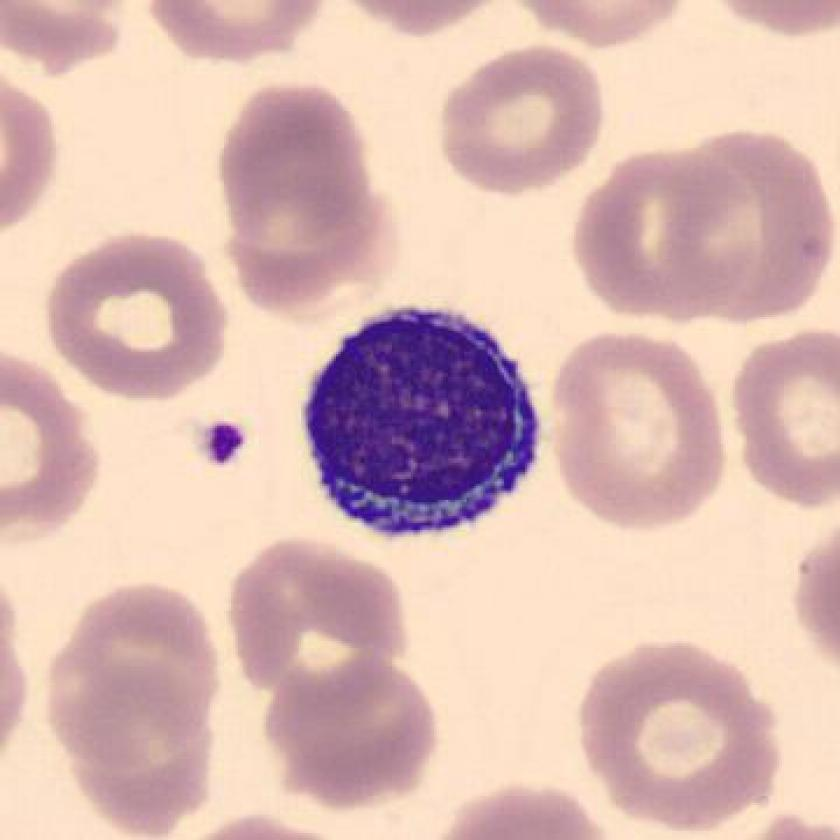lymphocyte: (288, 290, 552, 552)
